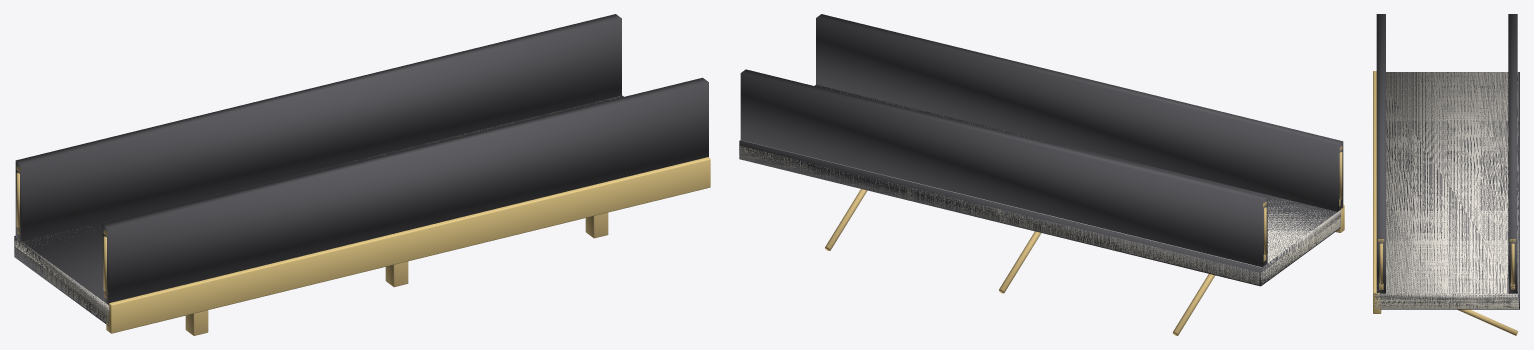
File: ponte.glb
3 views of the same model, side by side, from view 1: azimuth 30°, elevation 25°; view 2: azimuth 150°, elevation 25°; view 3: azimuth 270°, elevation 25° (orthographic). The views are drawn at different scales.
Visible parts, largest first — view 1: COL_par_retro, COL_parapetto, fascia, COL_solaio, solaio, piano, mensola_1, mensola_0, mensola_2; view 2: COL_parapetto, COL_par_retro, COL_solaio, solaio, piano, mensola_d_0, mensola_d_1, mensola_d_2; view 3: piano, COL_solaio, COL_par_retro, COL_parapetto, solaio, fascia, mensola_d_2, par_retro_bal_15, par_fronte_bal_15.
Boxes of the visible parts, <box> form: COL_par_retro: <box>15,14,621,241</box>; COL_parapetto: <box>102,77,708,304</box>; fascia: <box>106,157,710,333</box>; COL_solaio: <box>14,95,623,325</box>; solaio: <box>14,242,109,324</box>; piano: <box>15,96,619,314</box>; mensola_1: <box>385,261,408,287</box>; mensola_0: <box>185,310,208,335</box>; mensola_2: <box>585,212,608,238</box>; COL_parapetto: <box>816,14,1343,211</box>; COL_par_retro: <box>740,69,1267,266</box>; COL_solaio: <box>739,84,1340,286</box>; solaio: <box>740,146,1340,284</box>; piano: <box>740,85,1340,271</box>; mensola_d_0: <box>1173,274,1215,335</box>; mensola_d_1: <box>999,231,1041,293</box>; mensola_d_2: <box>825,189,867,250</box>; piano: <box>1376,72,1518,301</box>; COL_solaio: <box>1374,72,1519,309</box>; COL_par_retro: <box>1508,14,1517,293</box>; COL_parapetto: <box>1376,14,1385,293</box>; solaio: <box>1375,297,1518,308</box>; fascia: <box>1373,71,1381,313</box>; mensola_d_2: <box>1457,309,1518,335</box>; par_retro_bal_15: <box>1511,243,1514,284</box>; par_fronte_bal_15: <box>1379,243,1382,284</box>.
Size of the model in its own units: 9.06 by 2.59 by 2.52.
